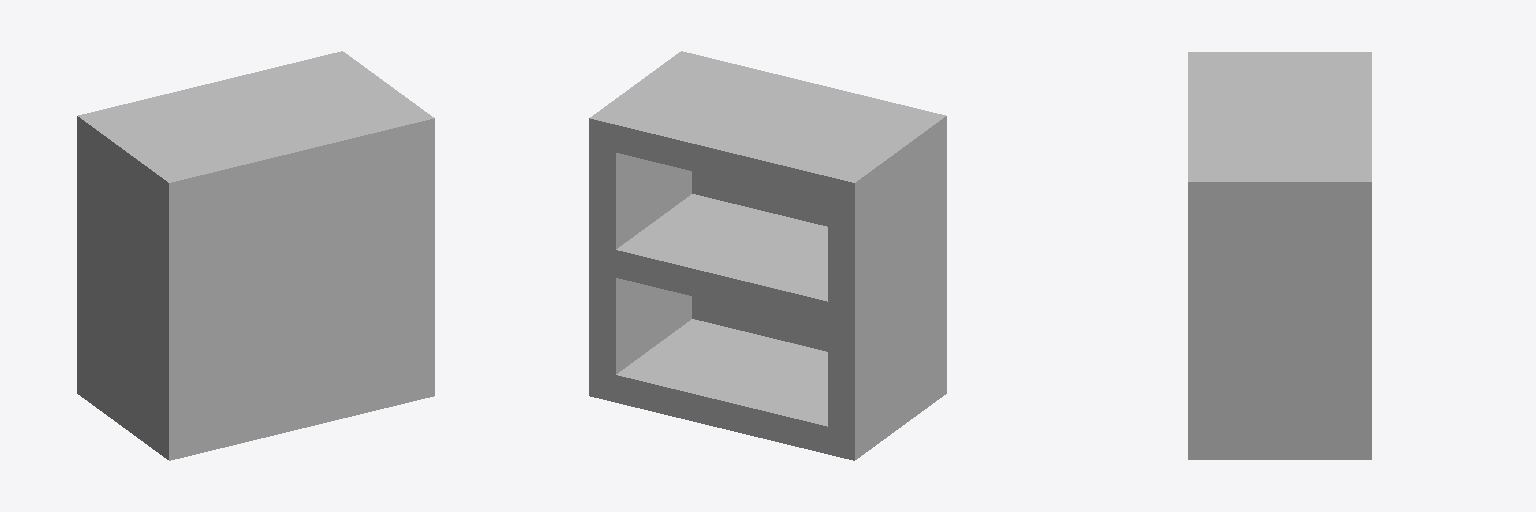
Rendered from pcity_nodes_shelf_1_double_shallow.obj.
The picture shows the model from 3 angles: view 1: azimuth 30°, elevation 25°; view 2: azimuth 150°, elevation 25°; view 3: azimuth 270°, elevation 25°; orthographic projection.
Parts seen in each view (by area): view 1: Shelf.001; view 2: Shelf.001; view 3: Shelf.001.
Part boxes in pixels (x1,y1,x2,y2): Shelf.001: (77,51,434,460); Shelf.001: (589,51,946,460); Shelf.001: (1188,52,1371,459).
Bounding box in the file's own units: 1 × 1 × 0.6.